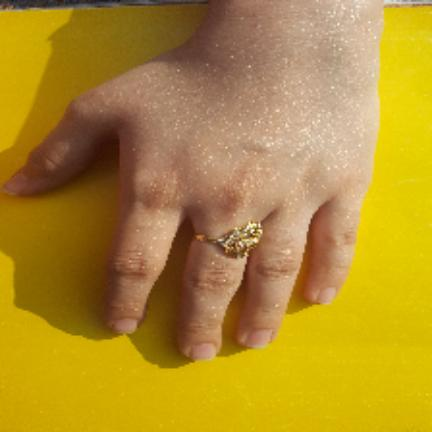Nail: (1, 171, 31, 196), (245, 329, 273, 349), (189, 343, 217, 360), (112, 318, 138, 334), (317, 287, 338, 305)
